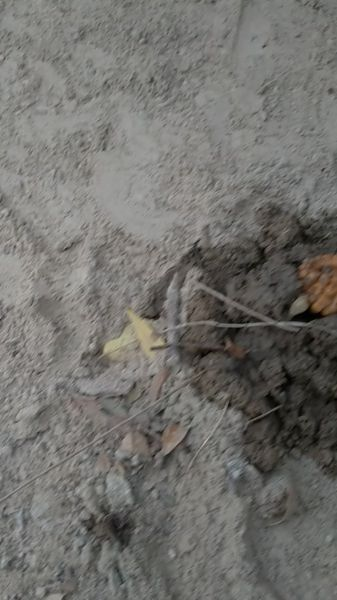eggs: (295, 250, 337, 326)
